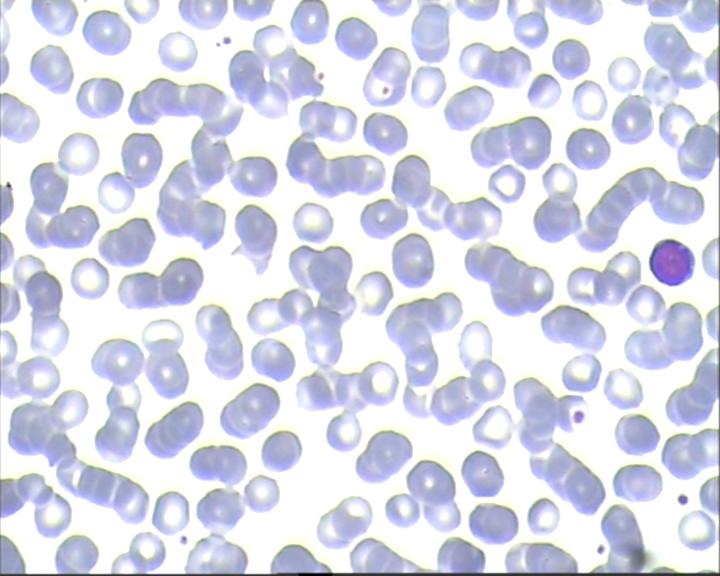lymp: (642, 234, 702, 293)
